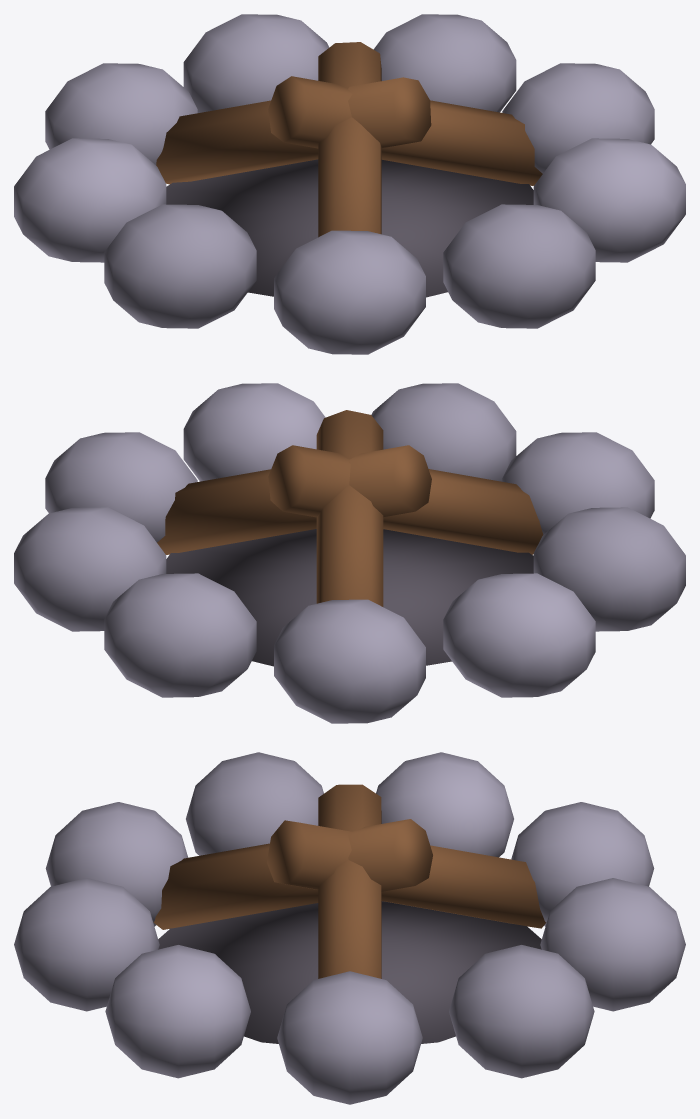
The model's file is campfire.glb.
The picture shows the model from 3 angles, top to bottom: view 1: azimuth 30°, elevation 25°; view 2: azimuth 150°, elevation 25°; view 3: azimuth 270°, elevation 25°; orthographic projection.
Visible parts, largest first — view 1: Campfire_Stones, Campfire_Logs, Campfire_Ash; view 2: Campfire_Stones, Campfire_Logs, Campfire_Ash; view 3: Campfire_Stones, Campfire_Logs, Campfire_Ash.
Boxes of the visible parts, x1,y1,x2,y2 form: Campfire_Stones: (14,14,685,354); Campfire_Logs: (156,42,542,237); Campfire_Ash: (166,159,533,297); Campfire_Stones: (14,383,685,723); Campfire_Logs: (157,410,543,606); Campfire_Ash: (166,529,533,666); Campfire_Stones: (14,752,685,1104); Campfire_Logs: (153,784,546,978); Campfire_Ash: (158,901,541,1043).
Bounding box in the file's own units: 1.39 × 0.3946 × 1.38.
